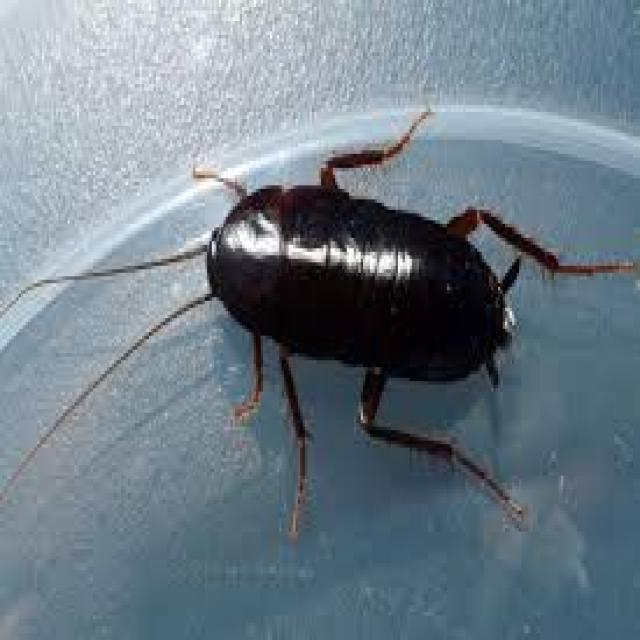Cockroach: (6, 83, 640, 590)
